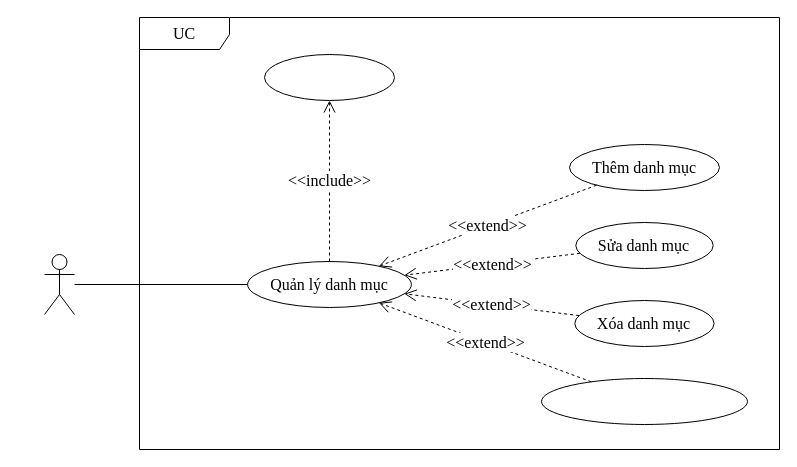
Image size: 797x467. Some labels were removed from this diagram. Each missing label, with the centre of its shape:
"Quản trị viên" belongs at point 59,284.
"Sắp xếp thứ tự danh mục" belongs at point 644,401.
"Đăng nhập" belongs at point 329,77.
